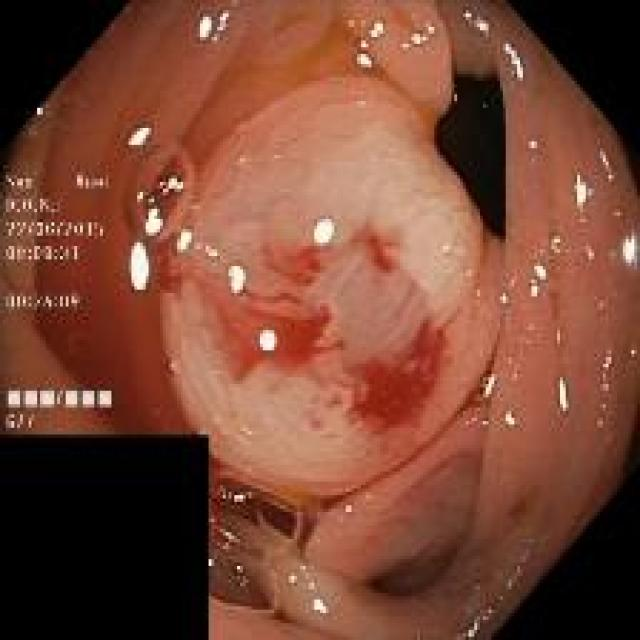Polyps: (162, 77, 500, 503)
